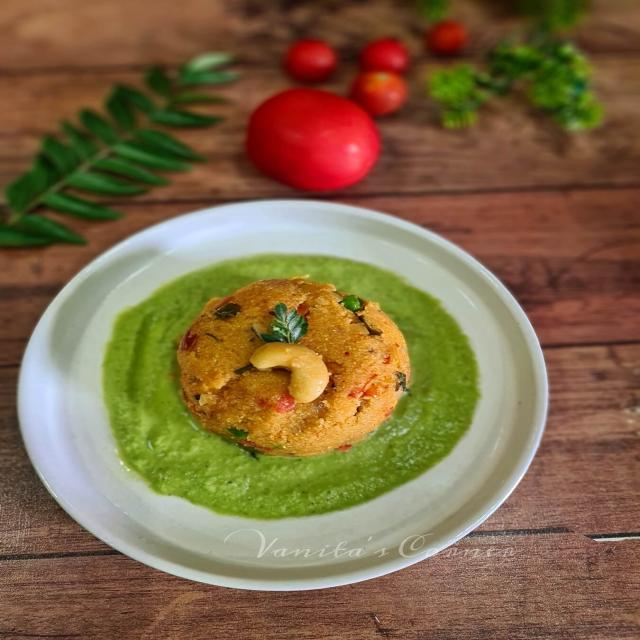UPMA: (177, 279, 409, 455)
